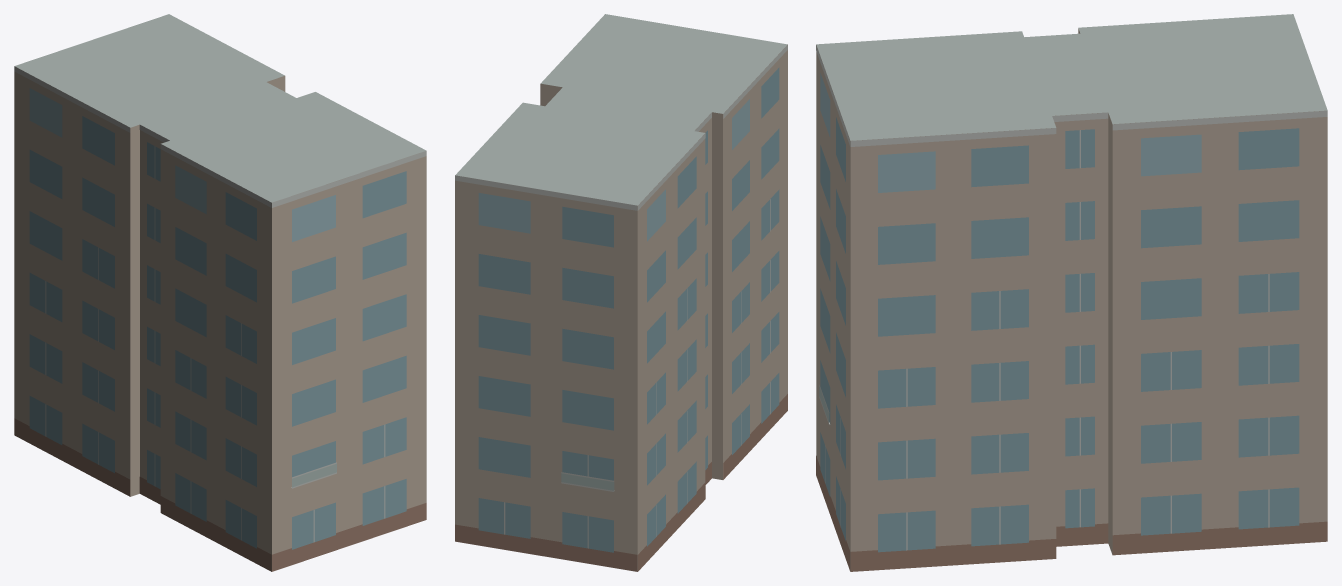
File: survey-upis-32923843.glb
3 views of the same model, side by side, from view 1: azimuth 30°, elevation 25°; view 2: azimuth 150°, elevation 25°; view 3: azimuth 270°, elevation 25° (orthographic). The views are drawn at different scales.
Visible parts, largest first — view 1: survey-upis-32923843.tmp; view 2: survey-upis-32923843.tmp; view 3: survey-upis-32923843.tmp.
Boxes of the visible parts, x1,y1,x2,y2 form: survey-upis-32923843.tmp: (14,14,426,571); survey-upis-32923843.tmp: (455,14,787,571); survey-upis-32923843.tmp: (816,14,1327,571).
Bounding box in the file's own units: 10.61 × 16.8 × 18.08.
